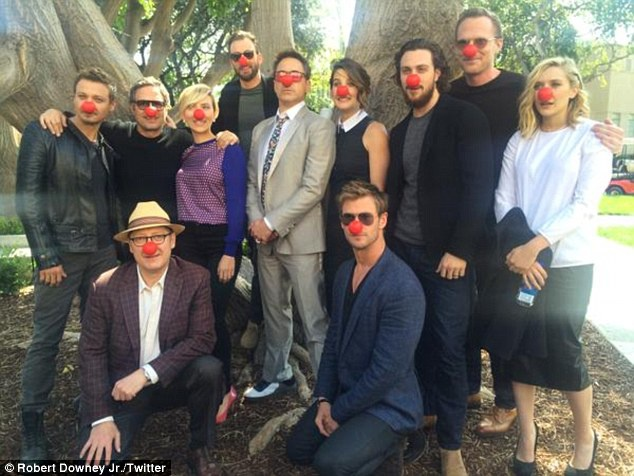bad: (331, 199, 383, 251), (216, 38, 268, 90), (453, 26, 496, 70), (525, 70, 568, 113), (391, 55, 434, 98), (127, 223, 170, 266), (129, 94, 165, 130), (269, 62, 305, 98), (69, 86, 105, 122)
